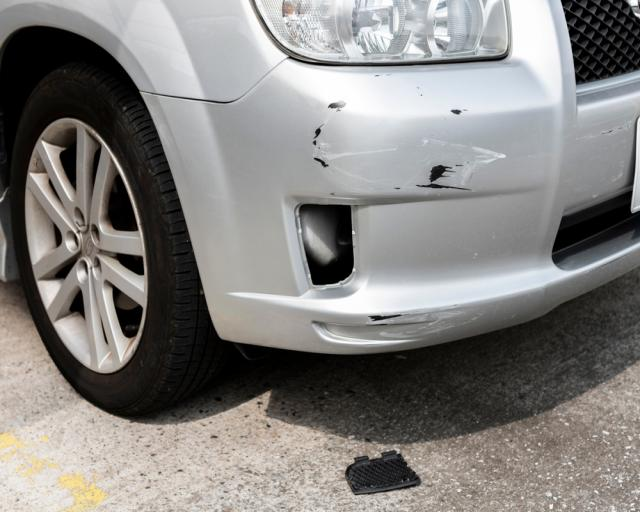scratch: (311, 99, 511, 200), (368, 300, 486, 341), (578, 119, 633, 199)
